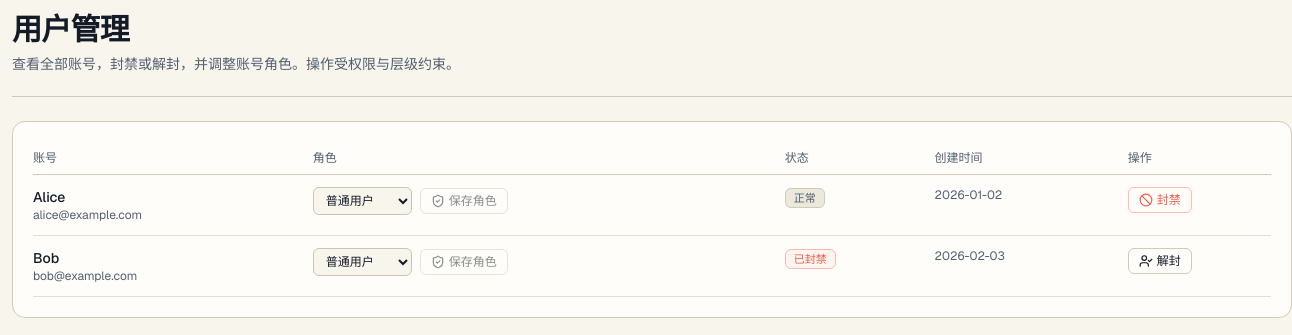
Scenario: 用户管理页 › 改角色发 POST /auth/users/{id}/role
The image size is (1292, 335).
Expected: the text "Alice" is shown, [33,188,65,206]
Select "超级管理员" in the dropdown named "角色" in the row of "alice@example.com". click: (362, 201)
box: [313,187,412,215]
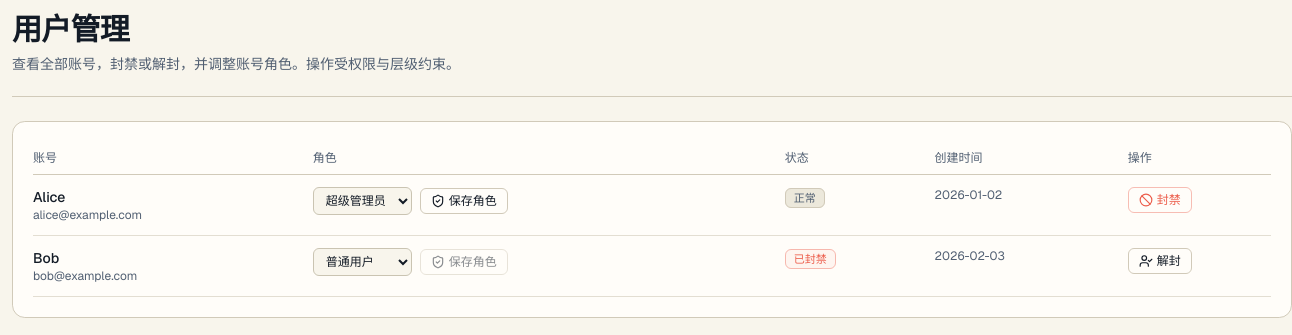
Click the button "保存角色" in the row of "alice@example.com". click: (464, 201)
box: [420,188,508,214]
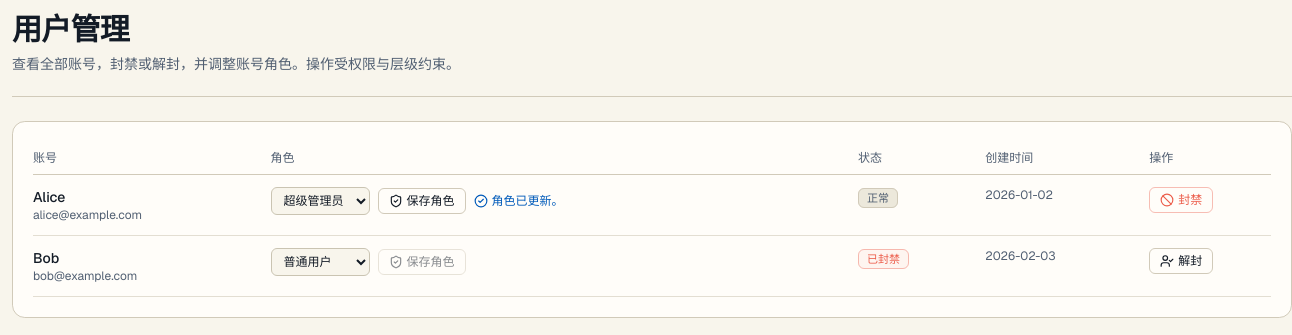
Result: the text "角色已更新。" is shown at [474,193,564,209]
